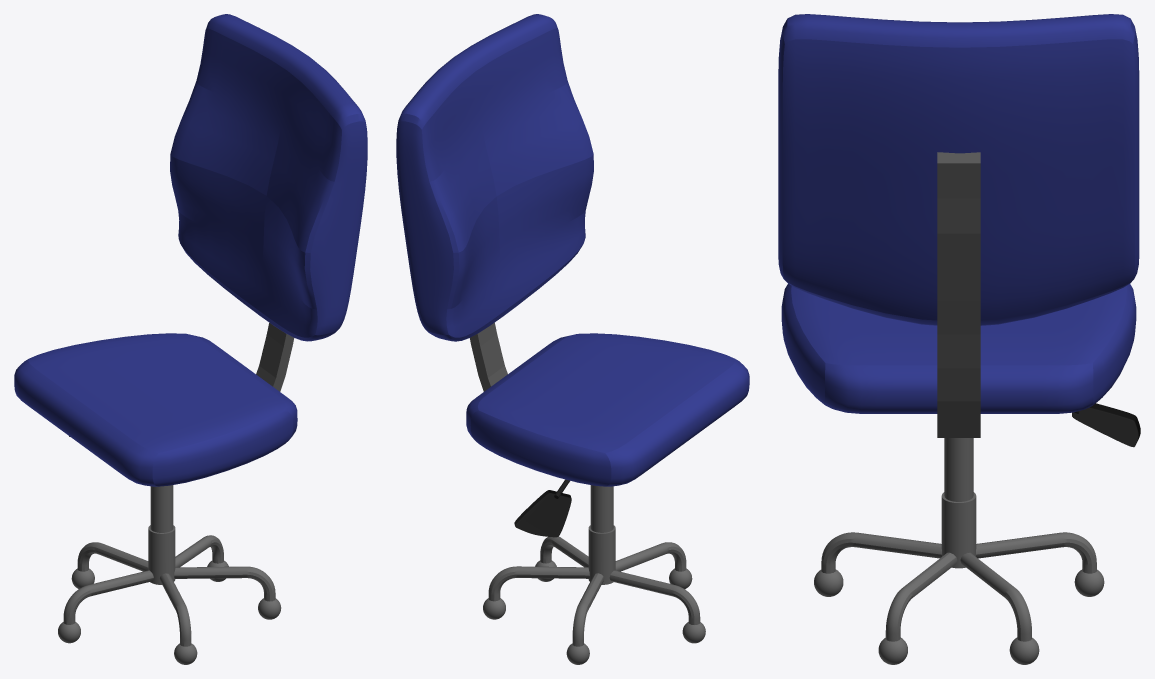
The model's file is office chair.fbx.
3 views of the same model, side by side, from view 1: azimuth 30°, elevation 25°; view 2: azimuth 150°, elevation 25°; view 3: azimuth 270°, elevation 25° (orthographic). The views are drawn at different scales.
Parts seen in each view (by area): view 1: Cube, Cylinder, Cube.002; view 2: Cube, Cylinder, Cylinder.001, Cube.002; view 3: Cube, Cylinder, Cube.002, Cylinder.001.
Boxes of the visible parts, x1=… form: Cube: x1=14, y1=14, x2=367, y2=486; Cylinder: x1=58, y1=485, x2=281, y2=664; Cube.002: x1=256, y1=323, x2=294, y2=391; Cube: x1=396, y1=14, x2=749, y2=486; Cylinder: x1=483, y1=485, x2=705, y2=664; Cylinder.001: x1=514, y1=479, x2=571, y2=537; Cube.002: x1=470, y1=322, x2=507, y2=391; Cube: x1=778, y1=14, x2=1139, y2=413; Cylinder: x1=814, y1=438, x2=1104, y2=664; Cube.002: x1=937, y1=152, x2=980, y2=437; Cylinder.001: x1=1072, y1=403, x2=1140, y2=447.
Bounding box in the file's own units: 418 × 820 × 400.
